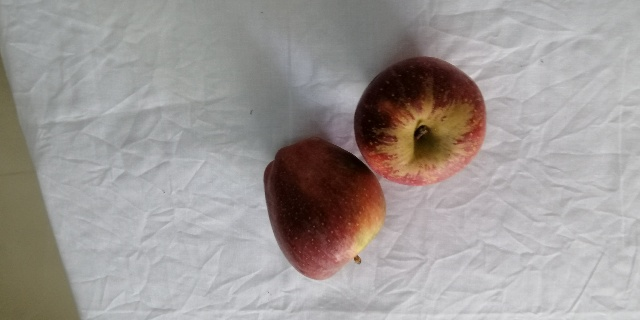apple_kashmir: (260, 135, 385, 281), (354, 52, 486, 184)
